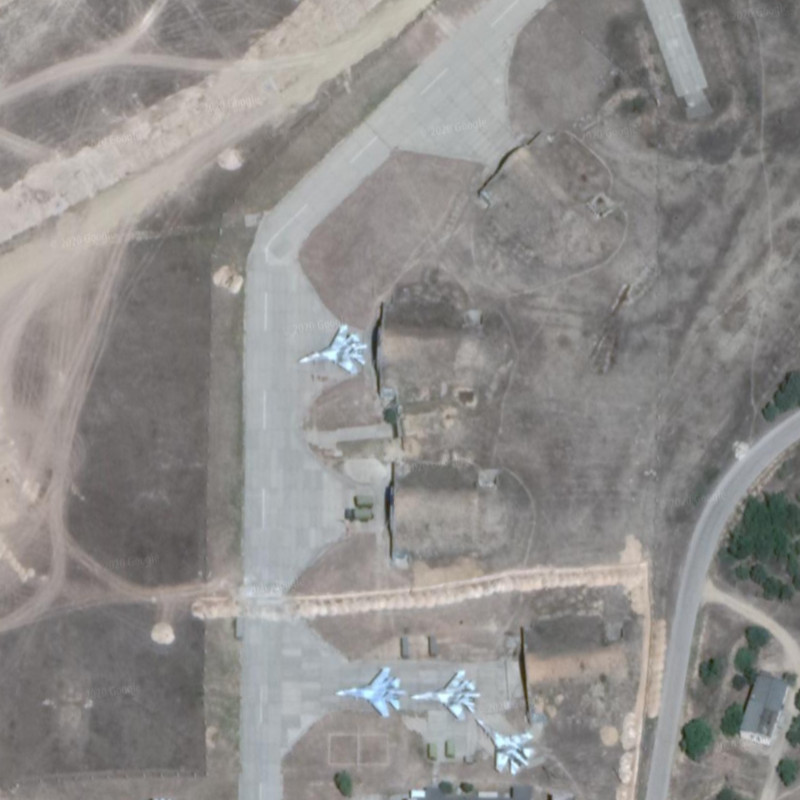A1: (293, 316, 372, 383), (330, 661, 407, 721), (411, 667, 486, 723), (468, 721, 542, 777)
